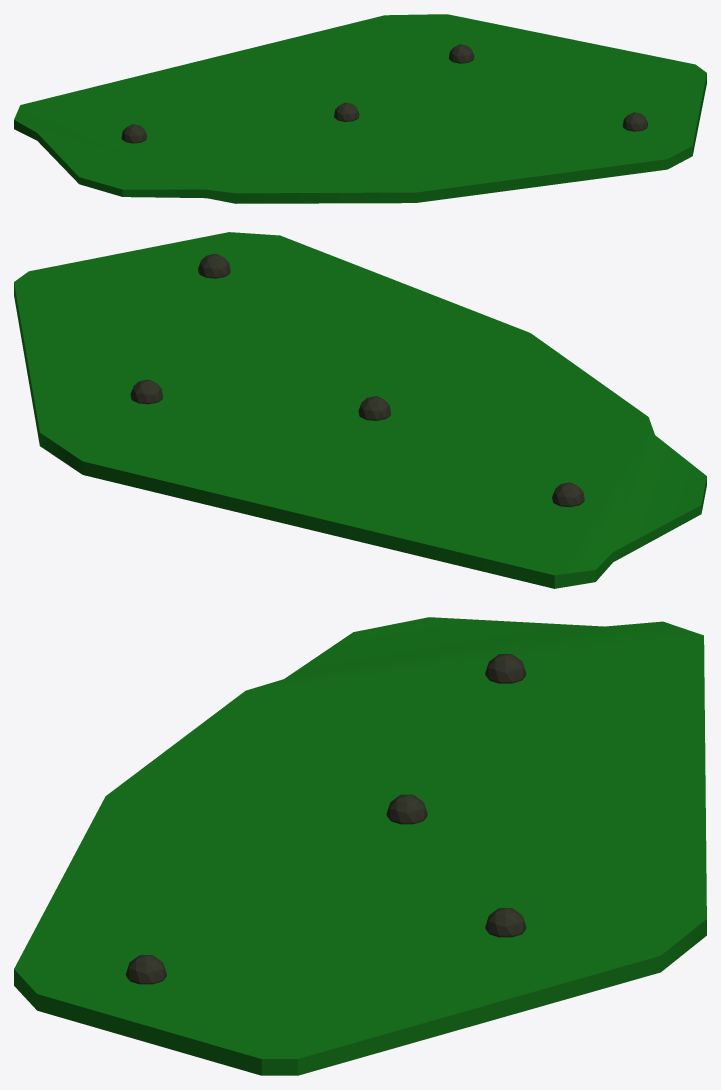
Rendered from PukePile.fbx.
3 renders of one model, top to bottom at view 1: azimuth 30°, elevation 25°; view 2: azimuth 150°, elevation 25°; view 3: azimuth 270°, elevation 25°, orthographic. The views are drawn at different scales.
Visible parts, largest first — view 1: Plane, Icosphere.003, Icosphere.001, Icosphere.002, Icosphere; view 2: Plane, Icosphere.002, Icosphere.003, Icosphere, Icosphere.001; view 3: Plane, Icosphere, Icosphere.003, Icosphere.002, Icosphere.001.
Part boxes in pixels (bbox=[...]): Plane: bbox=[14, 14, 706, 203]; Icosphere.003: bbox=[121, 124, 146, 143]; Icosphere.001: bbox=[622, 112, 647, 131]; Icosphere.002: bbox=[449, 44, 474, 63]; Icosphere: bbox=[334, 102, 359, 121]; Plane: bbox=[14, 232, 706, 588]; Icosphere.002: bbox=[130, 379, 163, 404]; Icosphere.003: bbox=[552, 482, 584, 507]; Icosphere: bbox=[358, 396, 390, 420]; Icosphere.001: bbox=[198, 254, 230, 278]; Plane: bbox=[14, 617, 706, 1075]; Icosphere: bbox=[386, 794, 427, 824]; Icosphere.003: bbox=[485, 654, 526, 683]; Icosphere.002: bbox=[485, 908, 526, 937]; Icosphere.001: bbox=[125, 955, 166, 984].
Bounding box in the file's own units: 356 × 13.94 × 233.
